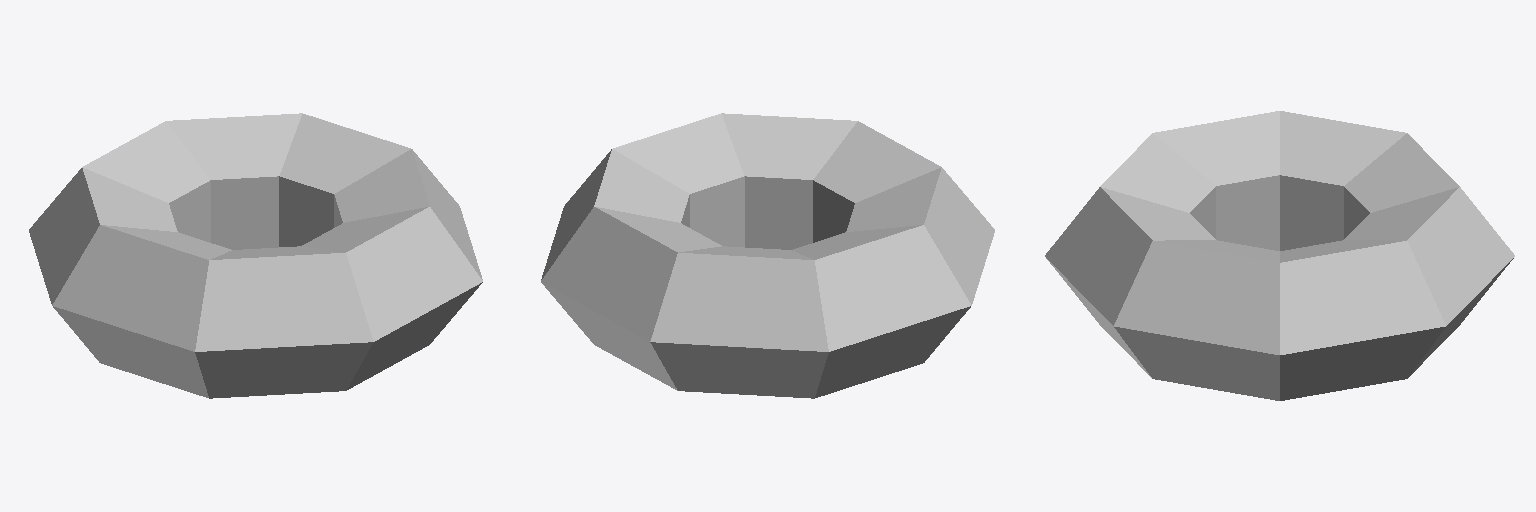
File: Donut.OBJ
3 renders of one model, left to right at view 1: azimuth 30°, elevation 25°; view 2: azimuth 150°, elevation 25°; view 3: azimuth 270°, elevation 25°, orthographic.
Size of the model in its own units: 0.1303 by 0.0423 by 0.1303.